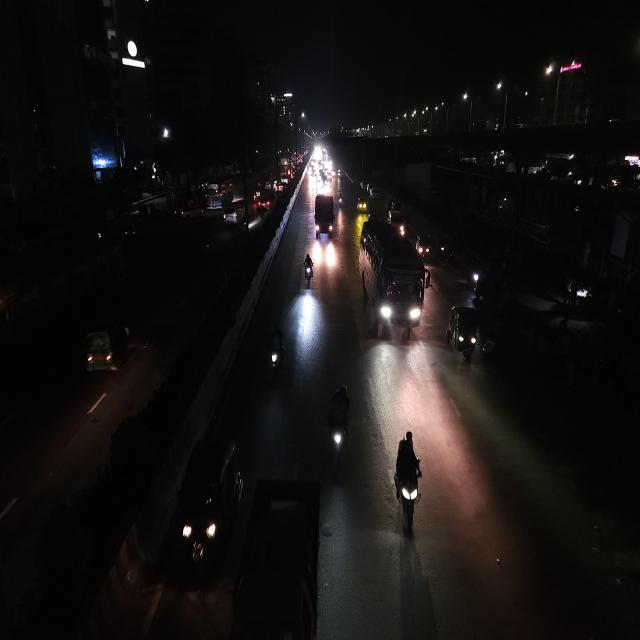bus: (358, 217, 430, 339), (202, 181, 228, 210)
car: (83, 308, 133, 381), (173, 190, 201, 222), (222, 200, 242, 227), (257, 190, 273, 212), (276, 178, 286, 192)
cng: (166, 432, 244, 594), (444, 300, 484, 363), (356, 196, 368, 214), (368, 184, 378, 199)
motorcycle: (388, 426, 428, 533), (324, 381, 352, 479), (264, 322, 288, 388), (466, 257, 484, 292), (300, 251, 316, 290), (395, 212, 409, 239), (242, 216, 251, 236), (338, 190, 344, 207)
truck: (312, 190, 336, 242)
